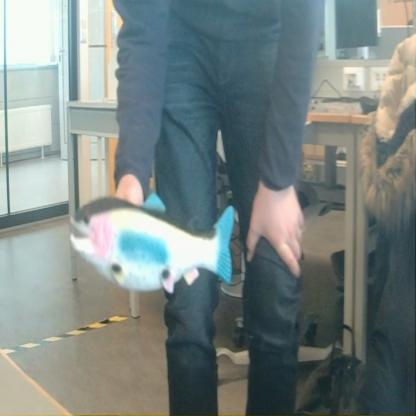rubberfish: (64, 181, 238, 296)
